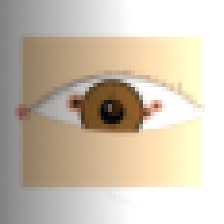foreign_body_visible: (147, 98, 166, 113)
